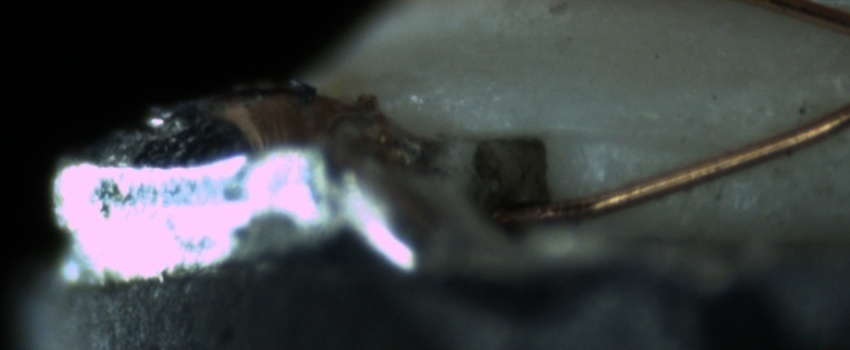DL: (567, 104, 706, 171)
